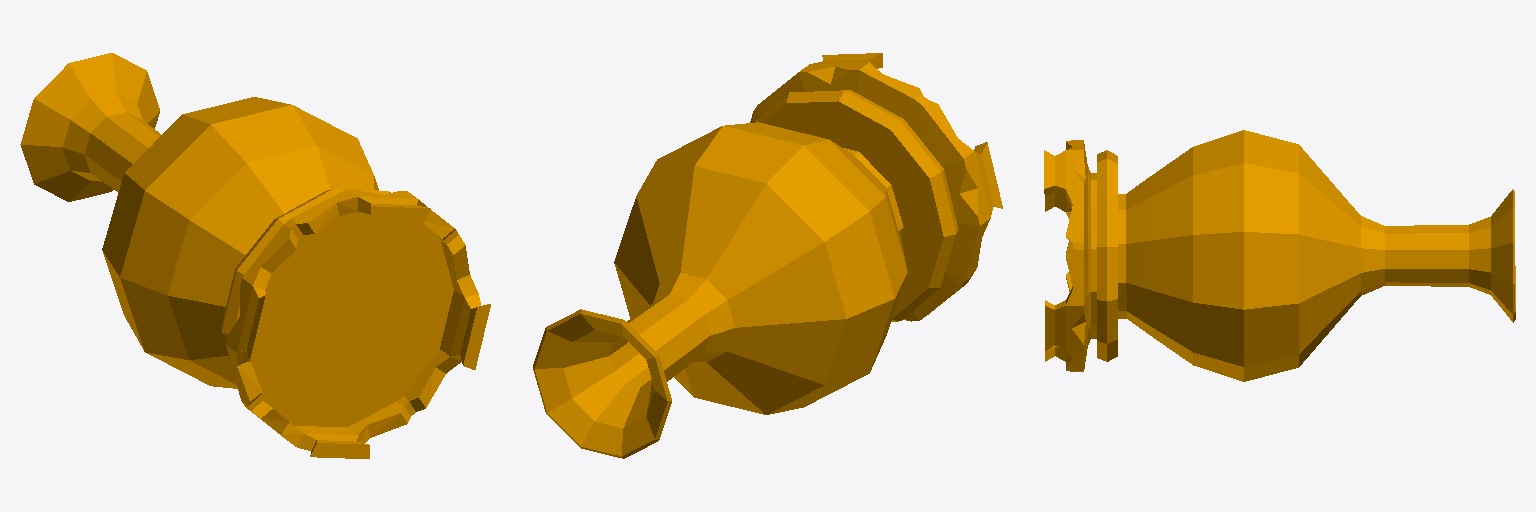
robot.urdf — none:
<robot name="none">
       <link name="none">
           <visual>
               <origin rpy="-1.57 0 0" xyz="0 0 0.5" />
               <geometry>
                   <mesh filename="HSM0037.obj" scale="0.04 0.04 0.04"/>
               </geometry>
           </visual>
          <collision>
<origin rpy="1.57 0 0" xyz="0 0 1" />
              <geometry>
                  <box size="1.010952 2.000000 1.010952" />
              </geometry>
          </collision>

          <inertial>
            <mass value="0.0" />
            <inertia ixx="0.05" ixy="0.0" ixz="0.0" iyy="0.05" iyz="0.0" izz="0.05"/>
          </inertial>
      </link>
  </robot>

--- Facts derived from the render (not from the file) ---
Views: 3 orthographic renders of the robot side by side, from view 1: azimuth 30°, elevation 25°; view 2: azimuth 150°, elevation 25°; view 3: azimuth 270°, elevation 25°.
Model none with 1 links and 0 joints (none), rooted at none, posed every joint at zero.
Visible links, largest first — view 1: none; view 2: none; view 3: none.
Link boxes in pixels (<box>): none: <box>20,53,490,458</box>; none: <box>533,53,1002,458</box>; none: <box>1044,130,1515,381</box>.
Bounding box of the posed robot: 0.7968 × 1.48 × 0.7578 m (x, y, z).
1 mesh visuals loaded from 1 distinct referenced files (1 OBJ).